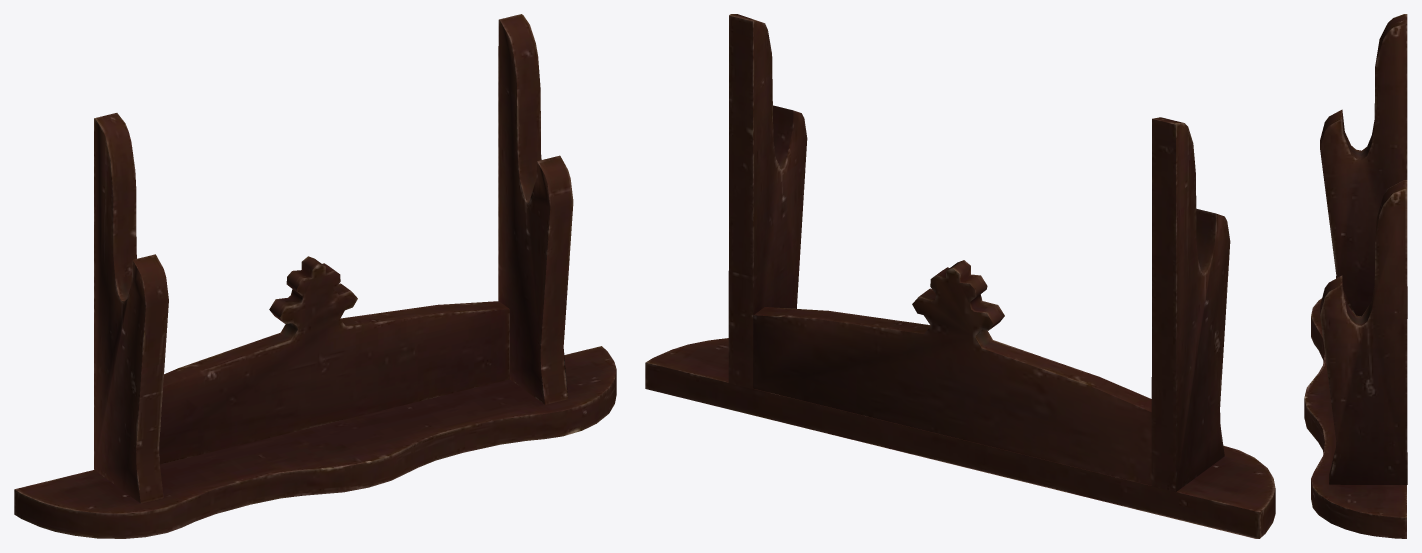
File: katana_stand_01.glb
The picture shows the model from 3 angles, left to right: view 1: azimuth 30°, elevation 25°; view 2: azimuth 150°, elevation 25°; view 3: azimuth 270°, elevation 25°; orthographic projection. The views are drawn at different scales.
Visible parts, largest first — view 1: katana_stand_01; view 2: katana_stand_01; view 3: katana_stand_01.
Boxes of the visible parts, <box> form: katana_stand_01: <box>14,14,616,538</box>; katana_stand_01: <box>645,14,1275,538</box>; katana_stand_01: <box>1304,14,1407,538</box>.
Bounding box in the file's own units: 0.2958 × 0.1818 × 0.0534.
Materials: 1 (1 with a texture image).
